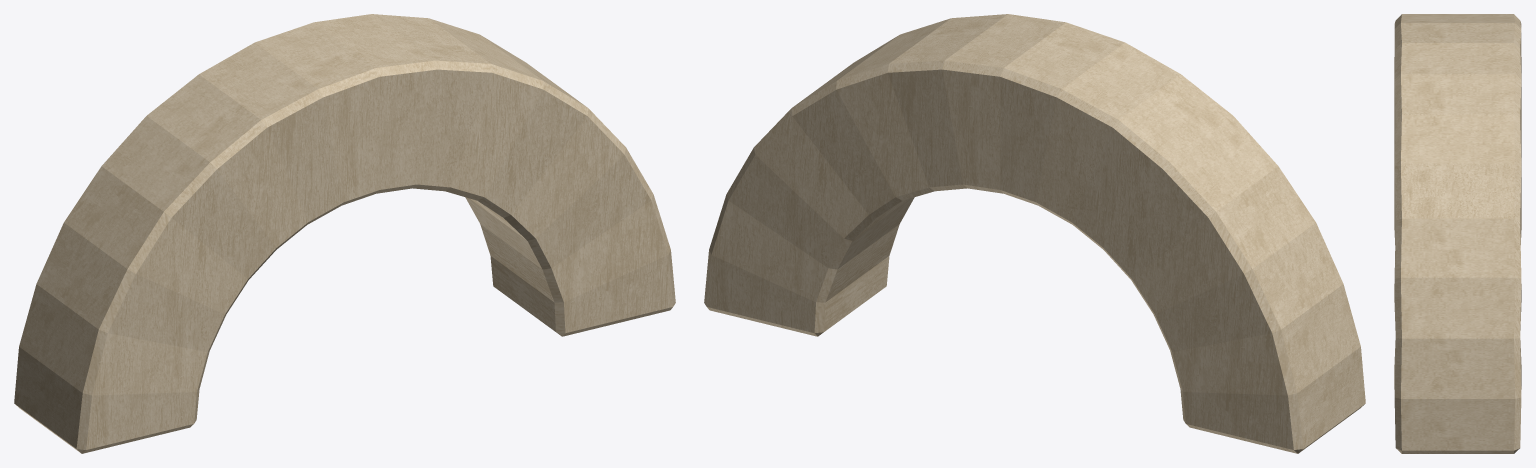
The model's file is arch.glb.
The picture shows the model from 3 angles, left to right: view 1: azimuth 30°, elevation 25°; view 2: azimuth 150°, elevation 25°; view 3: azimuth 270°, elevation 25°; orthographic projection. The views are drawn at different scales.
Parts seen in each view (by area): view 1: archblock; view 2: archblock; view 3: archblock.
Boxes of the visible parts, x1,y1,x2,y2 form: archblock: (14, 14, 675, 453); archblock: (704, 14, 1365, 453); archblock: (1394, 14, 1521, 453).
Bounding box in the file's own units: 9.99 × 5 × 2.05.
Materials: 1 (1 with a texture image).
